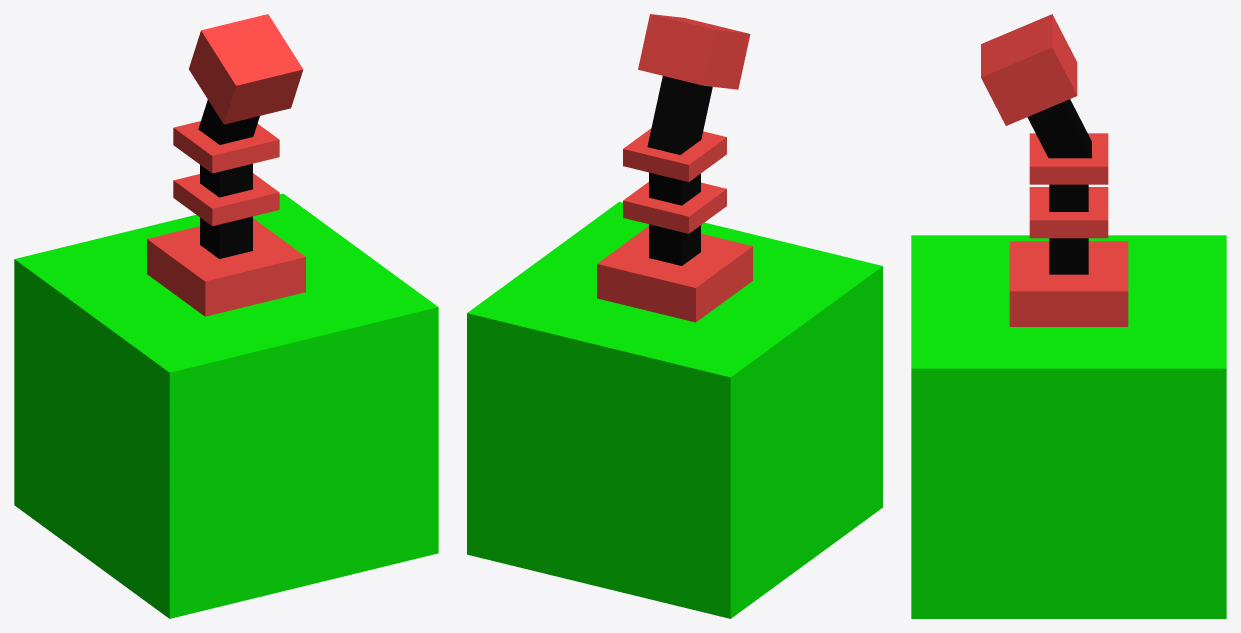
Rendered from planet_lime.gltf.
3 views of the same model, side by side, from view 1: azimuth 30°, elevation 25°; view 2: azimuth 150°, elevation 25°; view 3: azimuth 270°, elevation 25° (orthographic). The views are drawn at different scales.
Parts seen in each view (by area): view 1: mesh (×7); view 2: mesh (×7); view 3: mesh (×7).
Part boxes in pixels (x1,y1,x2,y2): mesh (×7): (14, 14, 438, 618); mesh (×7): (467, 14, 882, 618); mesh (×7): (911, 14, 1226, 618).
Size of the model in its own units: 1 by 1.82 by 1.
Materials: 1 (1 with a texture image).
